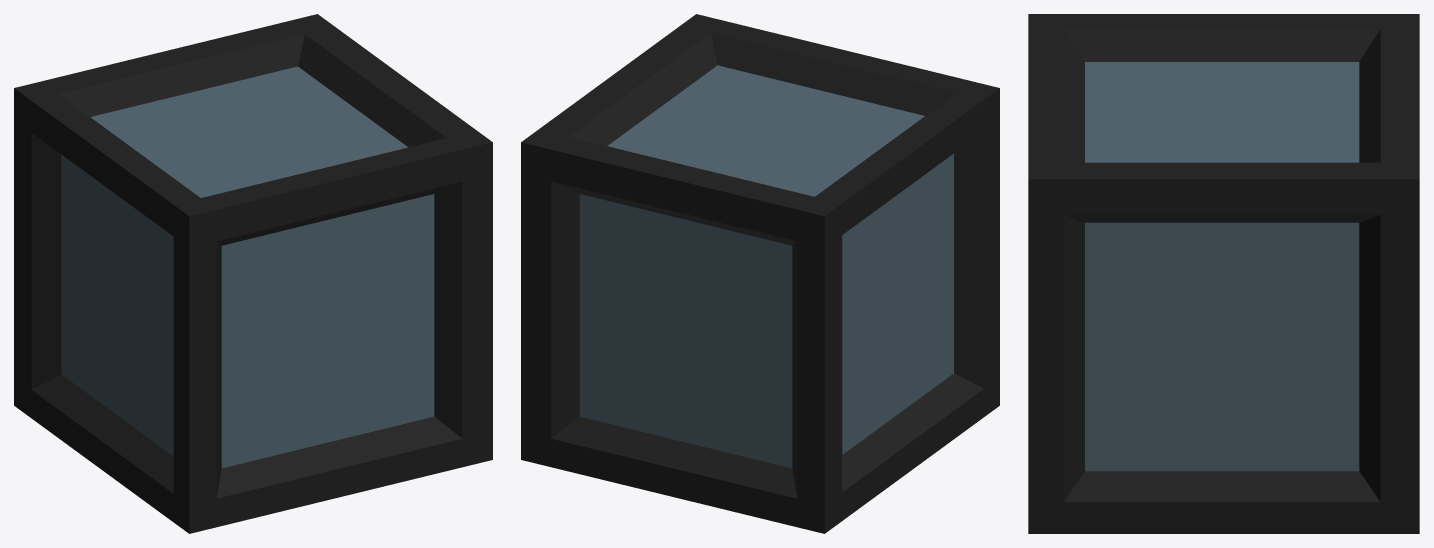
File: stone.fbx
3 views of the same model, side by side, from view 1: azimuth 30°, elevation 25°; view 2: azimuth 150°, elevation 25°; view 3: azimuth 270°, elevation 25° (orthographic). The views are drawn at different scales.
Parts seen in each view (by area): view 1: stone1; view 2: stone1; view 3: stone1.
Part boxes in pixels (box(x1,y1,x2,y2)): stone1: box(14, 14, 492, 533); stone1: box(521, 14, 999, 533); stone1: box(1028, 14, 1419, 533).
Bounding box in the file's own units: 1.62 × 1.62 × 1.62.
